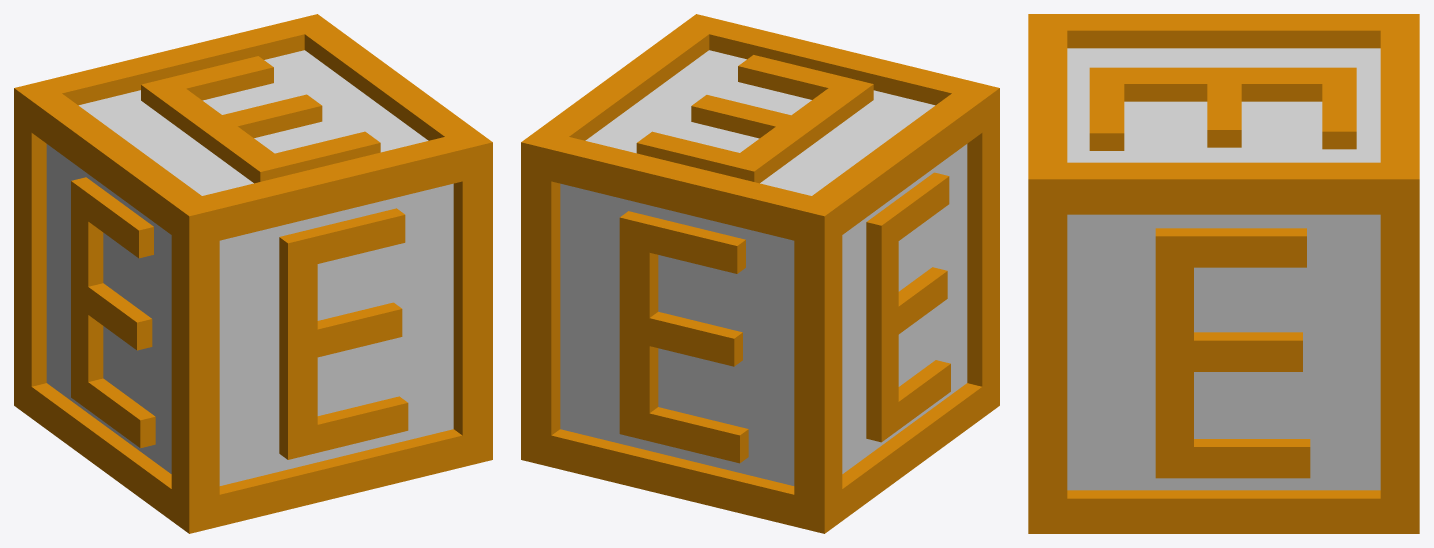
3 renders of one model, left to right at view 1: azimuth 30°, elevation 25°; view 2: azimuth 150°, elevation 25°; view 3: azimuth 270°, elevation 25°, orthographic. The views are drawn at different scales.
Parts seen in each view (by area): view 1: Cube, Text.001, Text.002, Text; view 2: Cube, Text.004, Text.002, Text; view 3: Cube, Text.003, Text.
Part boxes in pixels (<box>): Cube: <box>14,14,492,533</box>; Text.001: <box>279,208,408,459</box>; Text.002: <box>71,177,155,448</box>; Text: <box>141,56,380,183</box>; Cube: <box>521,14,999,533</box>; Text.004: <box>619,211,748,463</box>; Text.002: <box>866,172,950,442</box>; Text: <box>636,55,873,183</box>; Cube: <box>1028,14,1419,533</box>; Text.003: <box>1155,228,1310,478</box>; Text: <box>1089,67,1356,150</box>.
Bounding box in the file's own units: 200 × 200 × 200.
